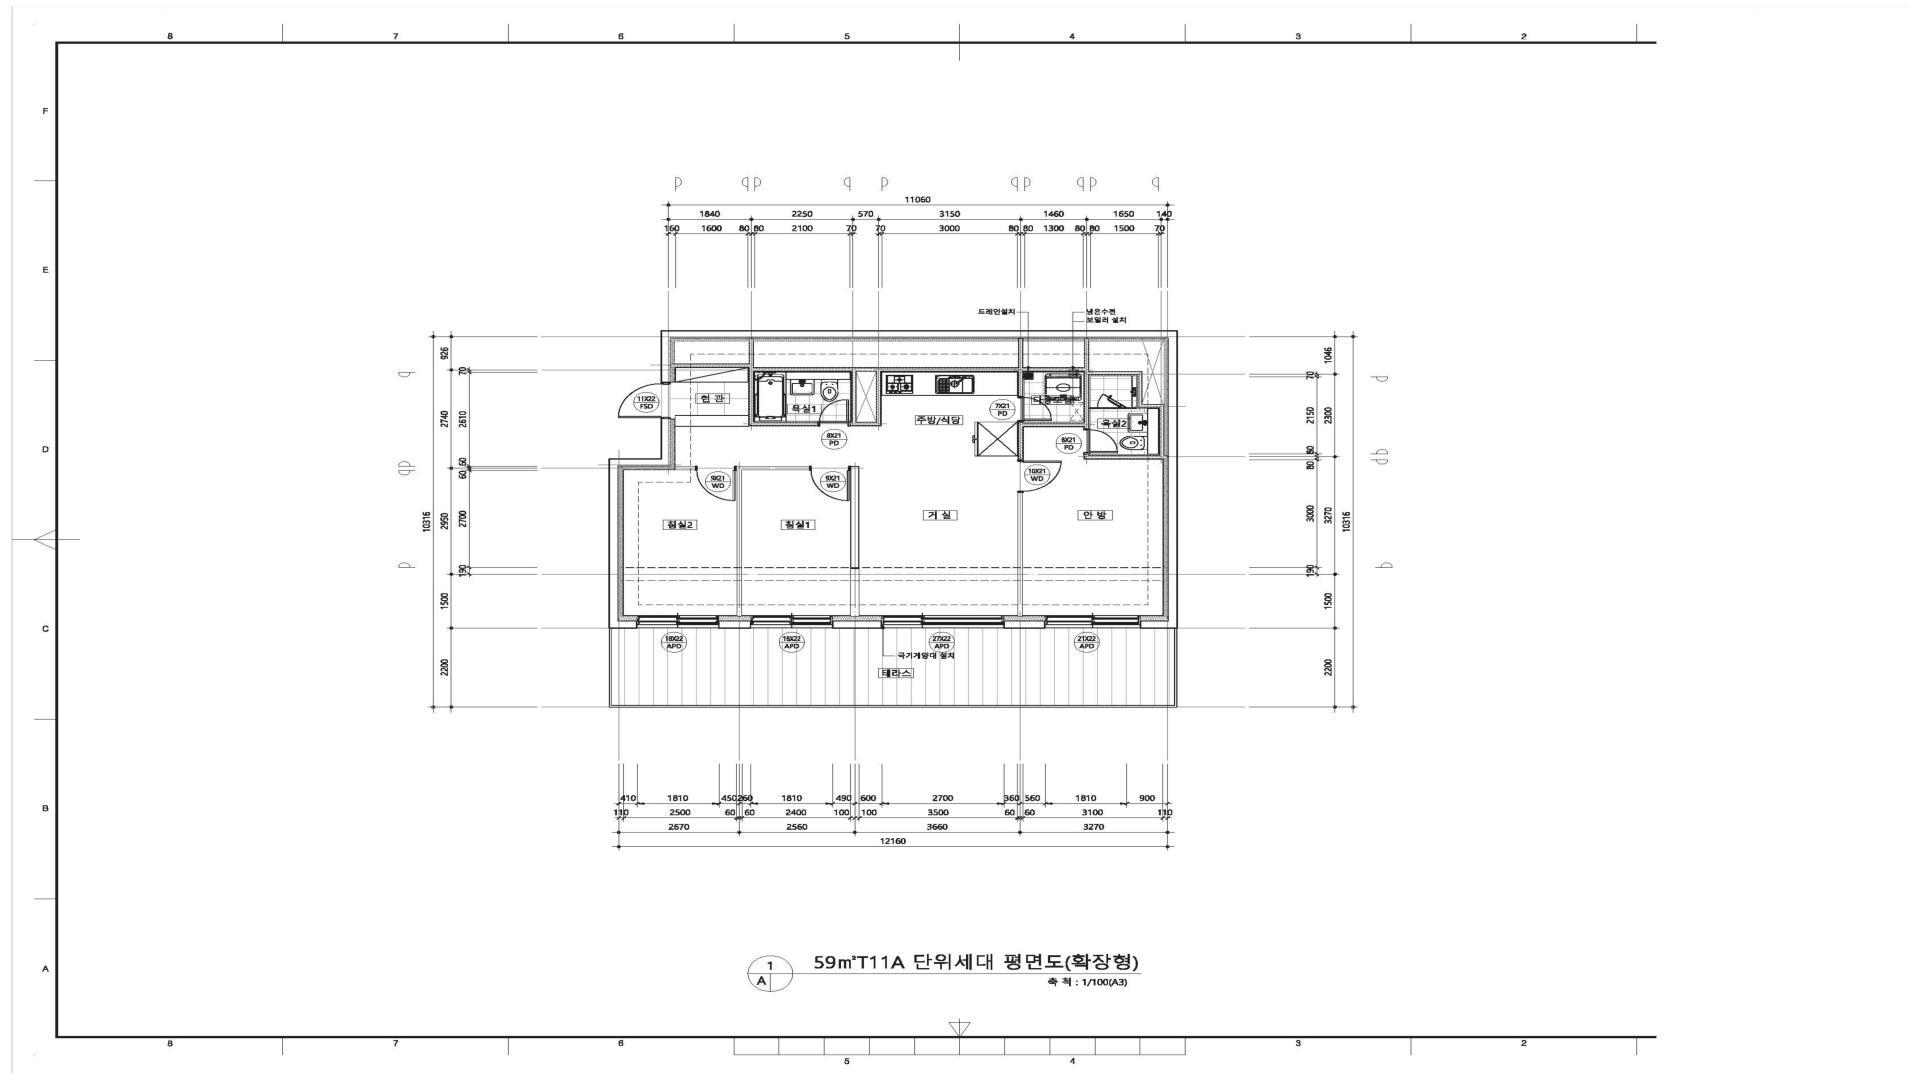door: (618, 381, 671, 419), (695, 465, 737, 501), (808, 465, 851, 501), (1017, 460, 1062, 492), (1017, 396, 1052, 423), (818, 400, 851, 427), (1083, 429, 1118, 454), (1089, 393, 1137, 409)
wall: (670, 330, 1178, 339), (1168, 338, 1178, 629), (608, 459, 620, 621), (754, 367, 1089, 372), (851, 465, 860, 568), (1018, 492, 1023, 616), (1084, 454, 1168, 460), (661, 330, 671, 382), (737, 467, 742, 568), (749, 338, 754, 426), (832, 620, 882, 629), (851, 568, 860, 616), (661, 418, 671, 458), (620, 459, 670, 467), (1004, 620, 1044, 629), (876, 372, 882, 422), (670, 364, 749, 368), (1158, 409, 1164, 455), (1084, 372, 1089, 429), (1017, 423, 1025, 460), (719, 620, 750, 629), (608, 620, 637, 629), (851, 372, 856, 422), (742, 467, 808, 471), (737, 567, 742, 616), (1141, 620, 1168, 629), (754, 422, 818, 426), (1025, 423, 1084, 427), (1089, 372, 1142, 376), (1018, 338, 1023, 368), (1084, 338, 1089, 368), (1017, 372, 1023, 396), (1138, 376, 1142, 407), (1142, 404, 1166, 409), (851, 422, 882, 426), (675, 467, 695, 469)
window: (882, 616, 1004, 628), (1044, 616, 1139, 628), (637, 616, 719, 628), (750, 616, 832, 628)
